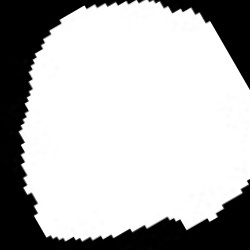spot: (22, 4, 248, 240)
